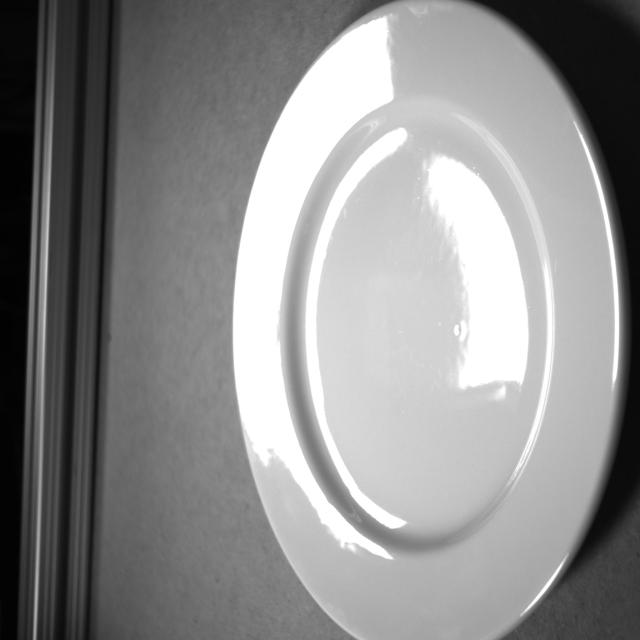plate: (228, 0, 626, 640)
